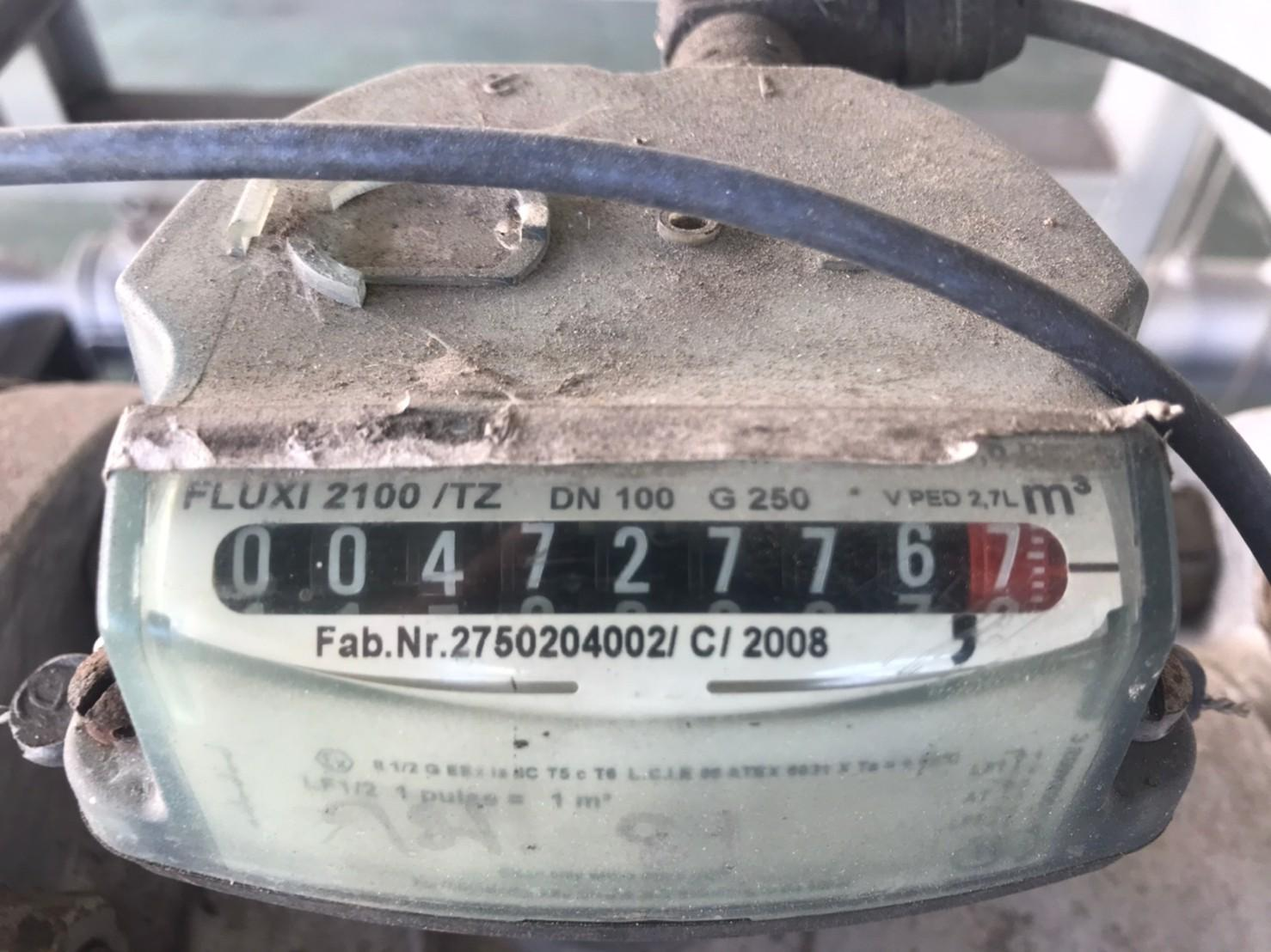analog_dial: (202, 509, 1120, 633)
